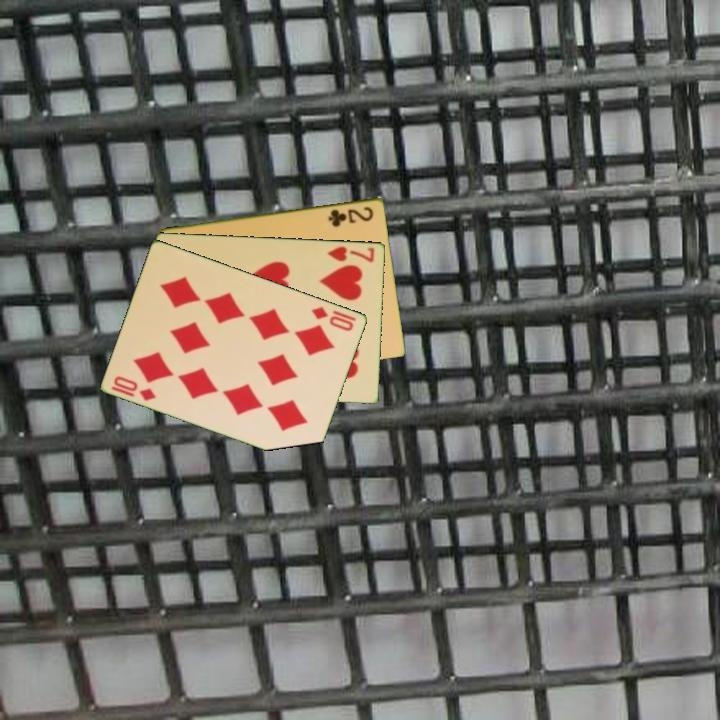10d: (108, 372, 159, 404), (308, 303, 357, 334)
2c: (325, 202, 376, 229)
7h: (325, 243, 378, 265)
